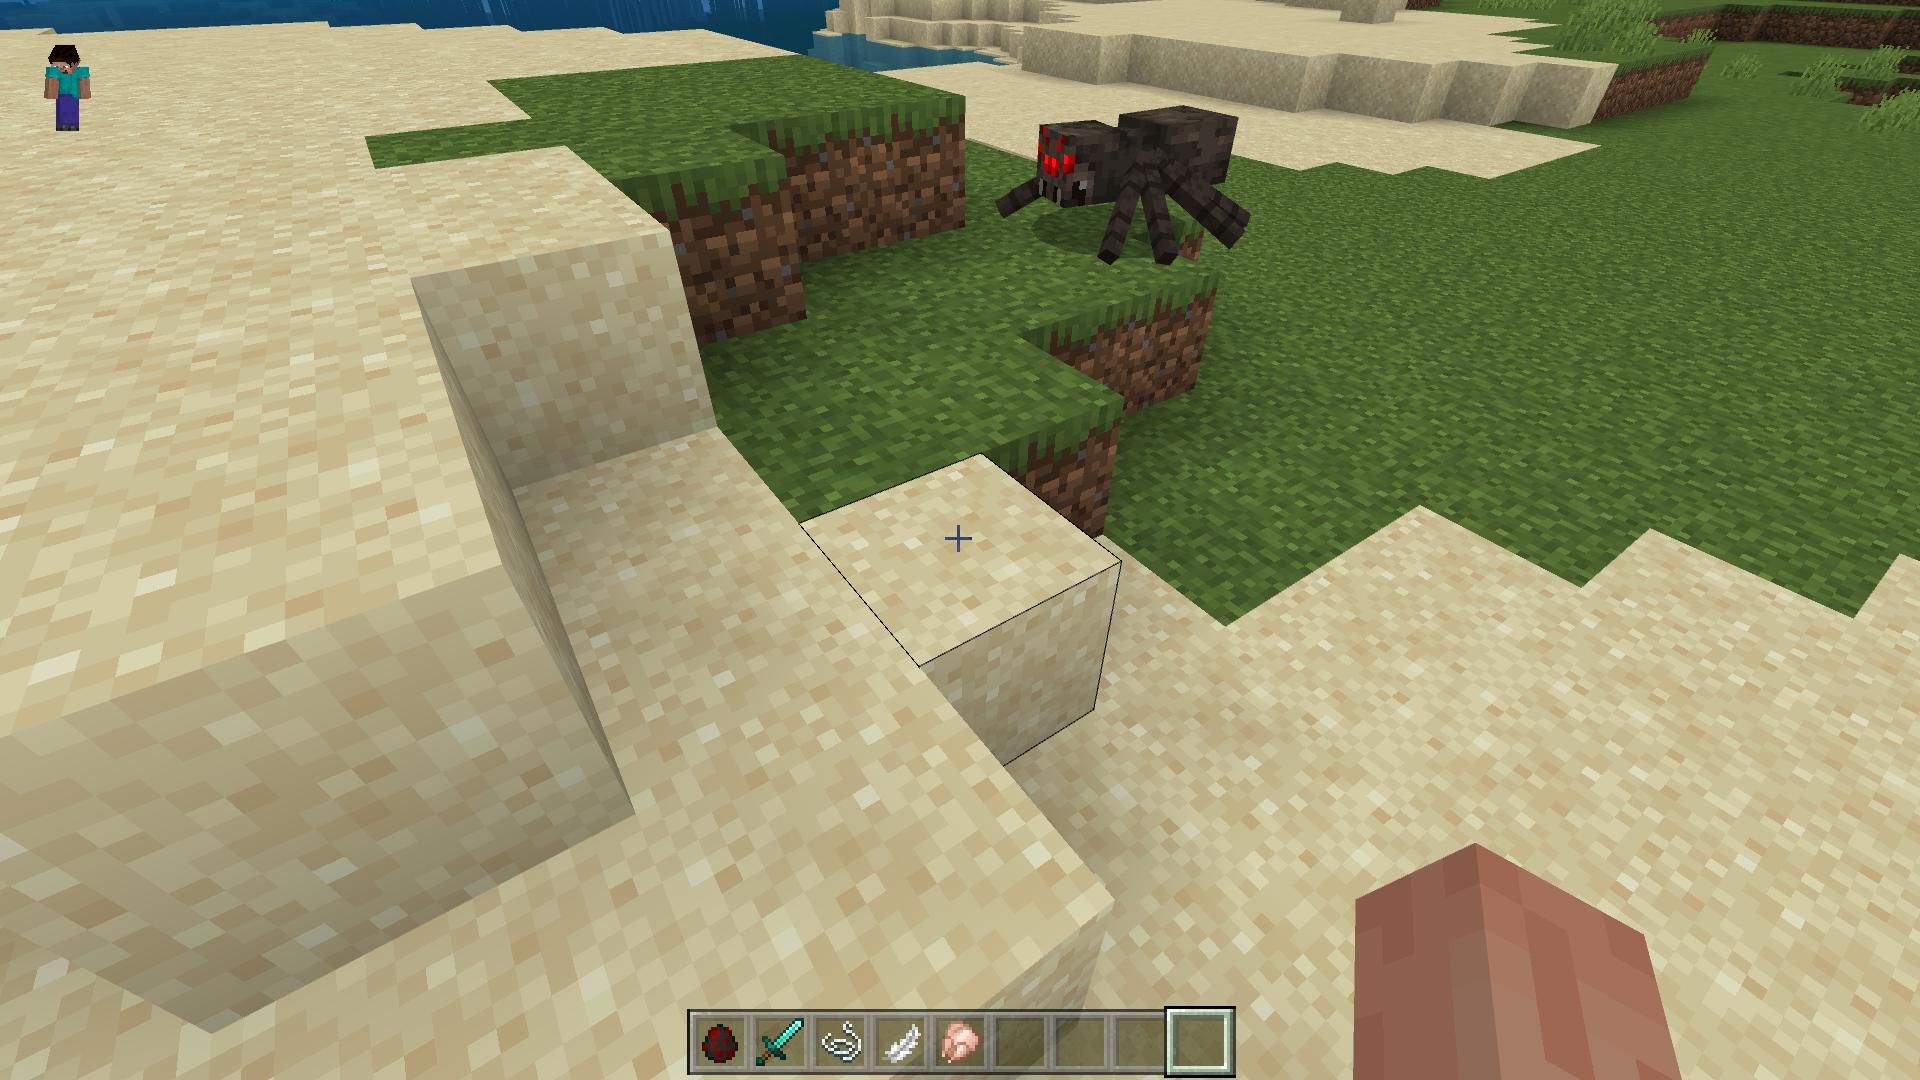spider: (996, 105, 1250, 265)
